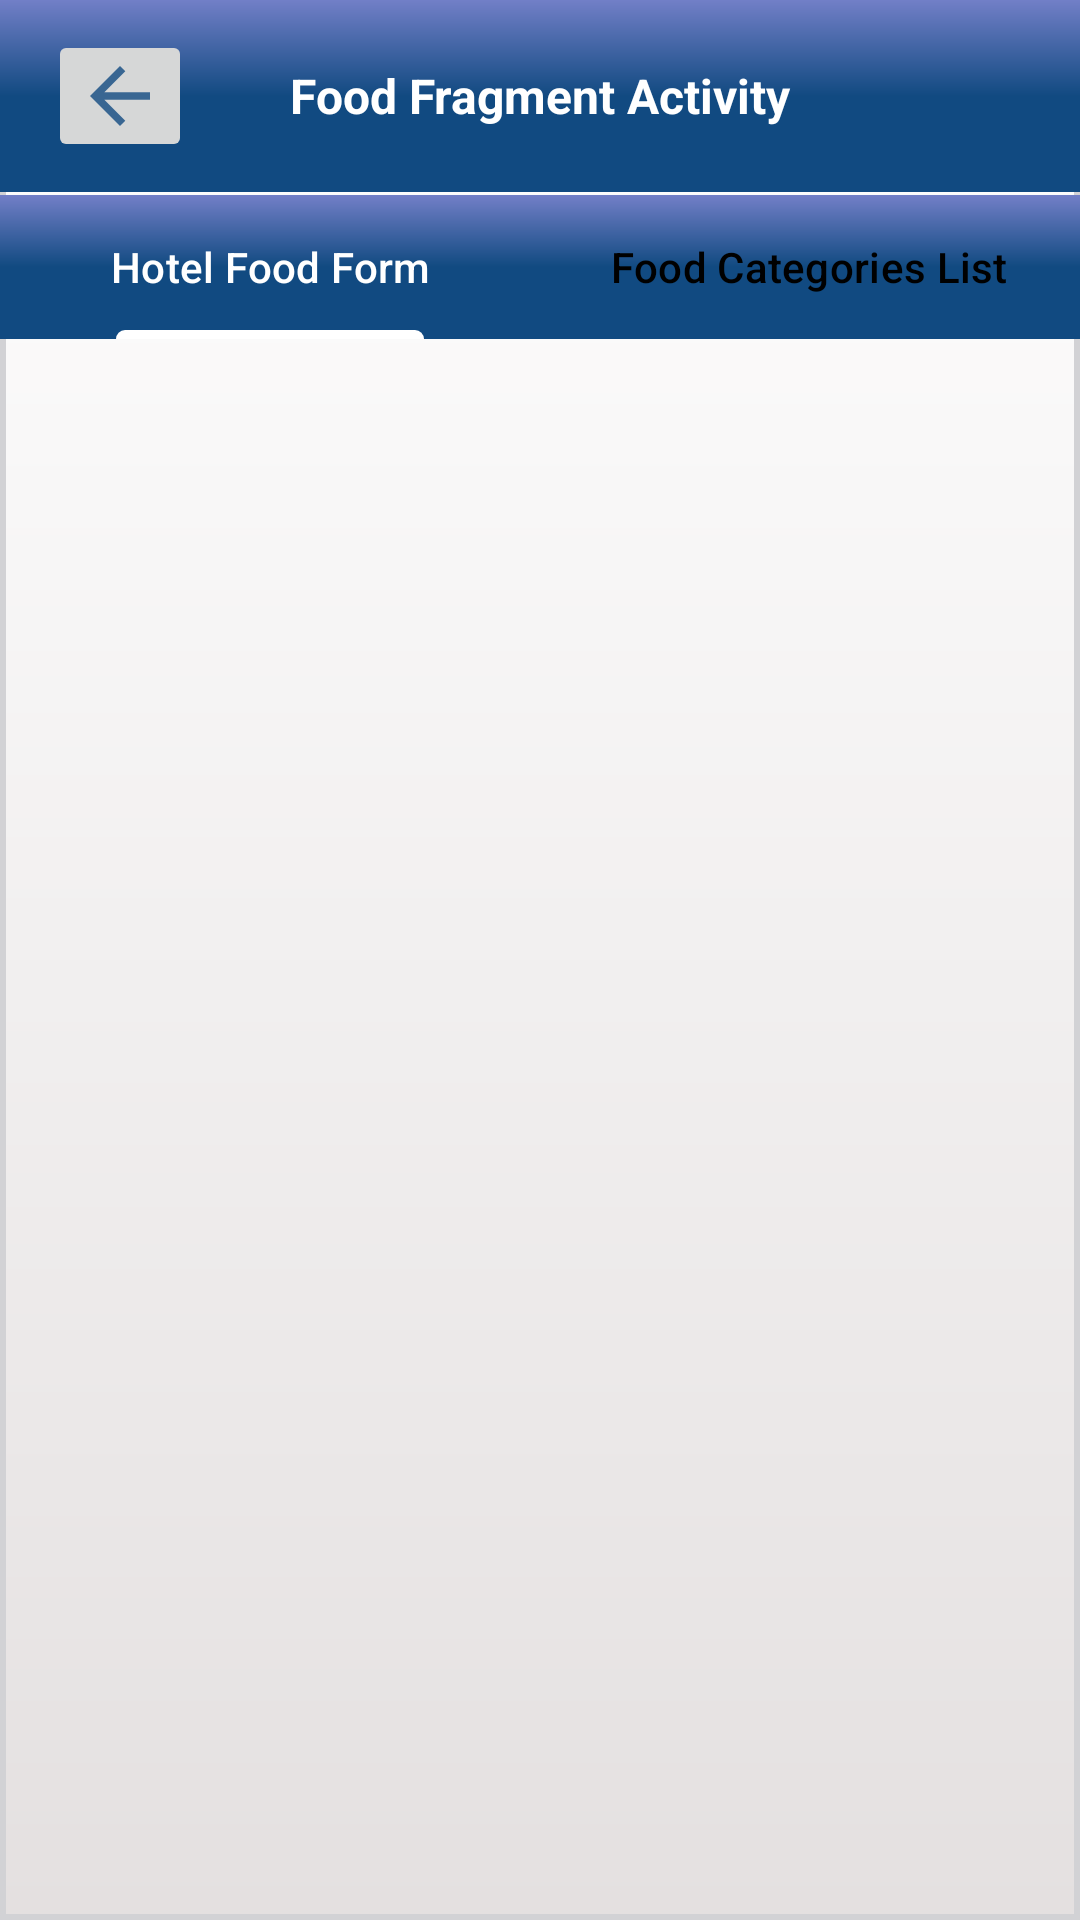

Point at icon controls on the screen. Image size 1080 x 1920, points as [x,y].
back arrow: [120,96]
